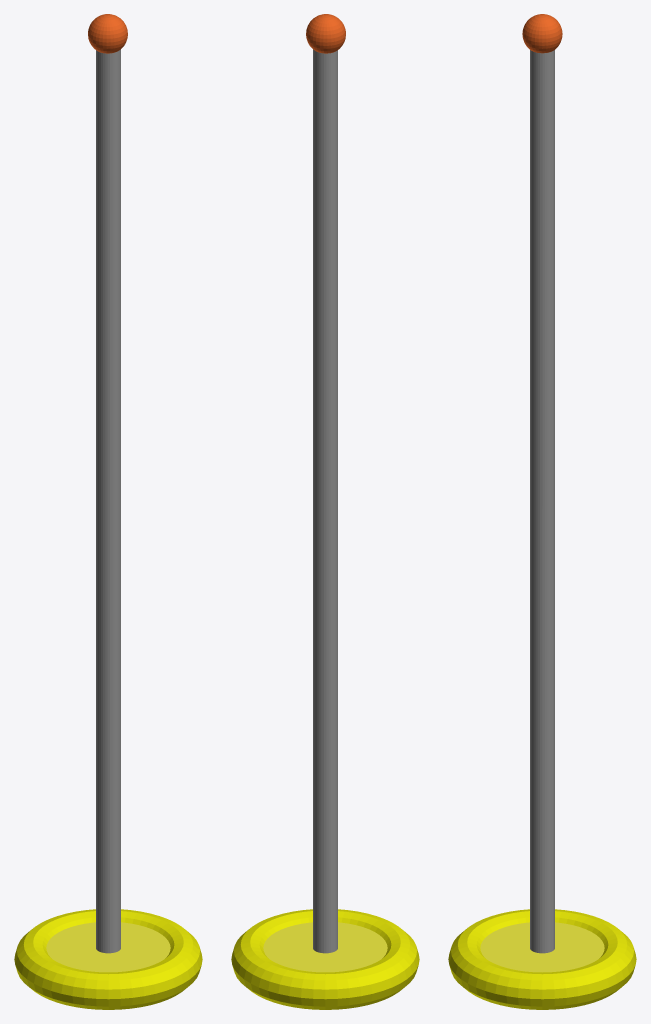
Rendered from Stage2FlagPL.fbx.
3 renders of one model, left to right at view 1: azimuth 30°, elevation 25°; view 2: azimuth 150°, elevation 25°; view 3: azimuth 270°, elevation 25°, orthographic.
Parts seen in each view (by area): view 1: Cylinder, Torus, Cylinder.001, Sphere; view 2: Cylinder, Torus, Cylinder.001, Sphere; view 3: Cylinder, Torus, Cylinder.001, Sphere.
Part boxes in pixels (x1,y1,x2,y2): Cylinder: (96,49,120,953); Torus: (14,909,202,1009); Cylinder.001: (46,922,170,972); Sphere: (88,14,127,53); Cylinder: (313,49,337,953); Torus: (231,909,419,1009); Cylinder.001: (263,922,387,972); Sphere: (306,14,345,53); Cylinder: (530,50,554,953); Torus: (448,909,636,1009); Cylinder.001: (480,922,604,972); Sphere: (522,14,562,53).
Size of the model in its own units: 75 by 422 by 75.
